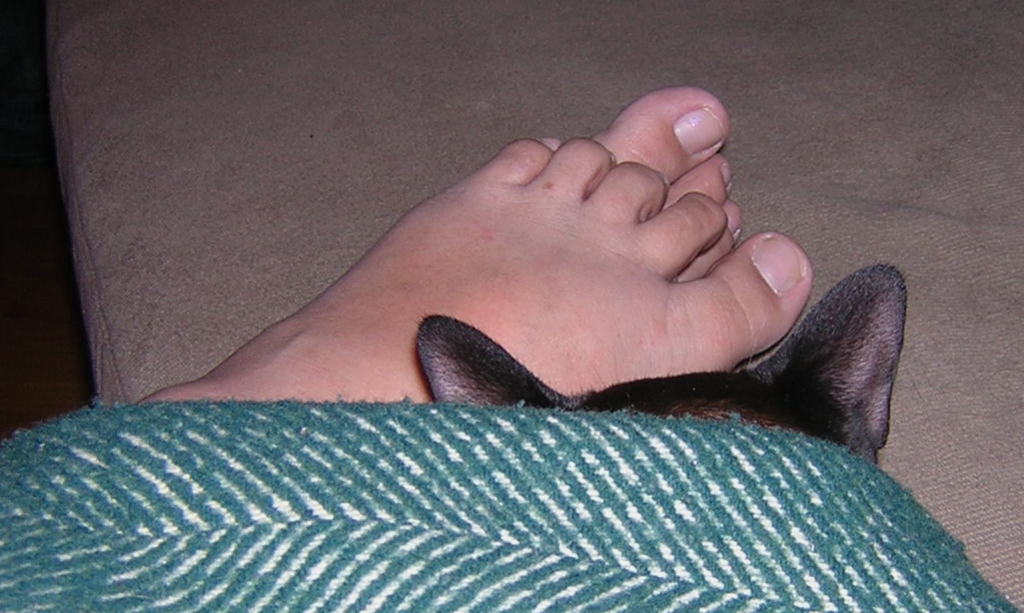Person: (131, 82, 815, 404)
